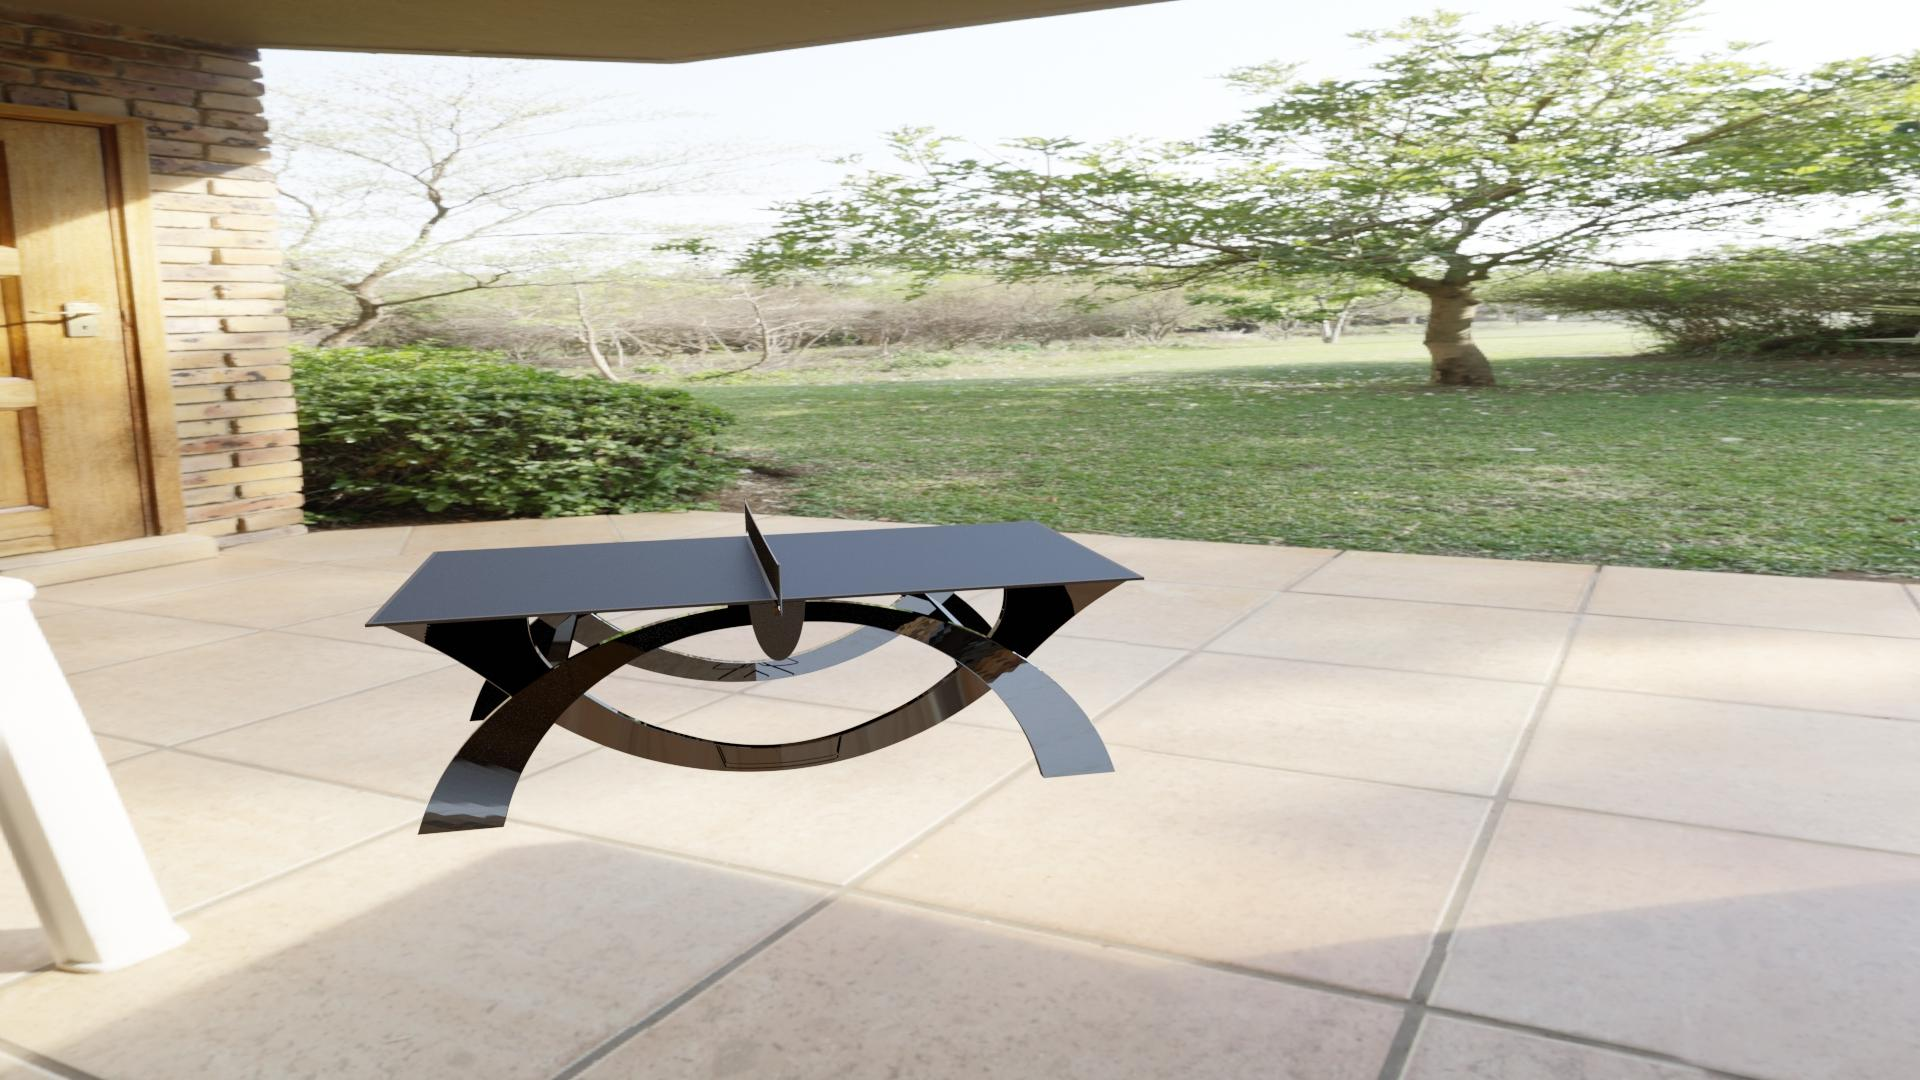table: (372, 522, 1138, 622)
